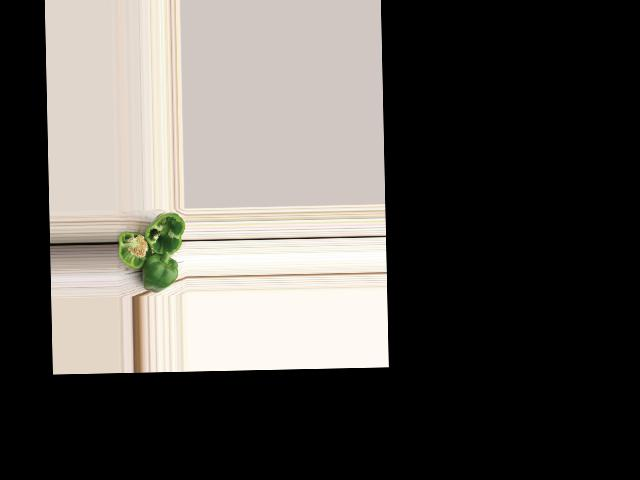bell_pepper: (117, 223, 151, 272)
